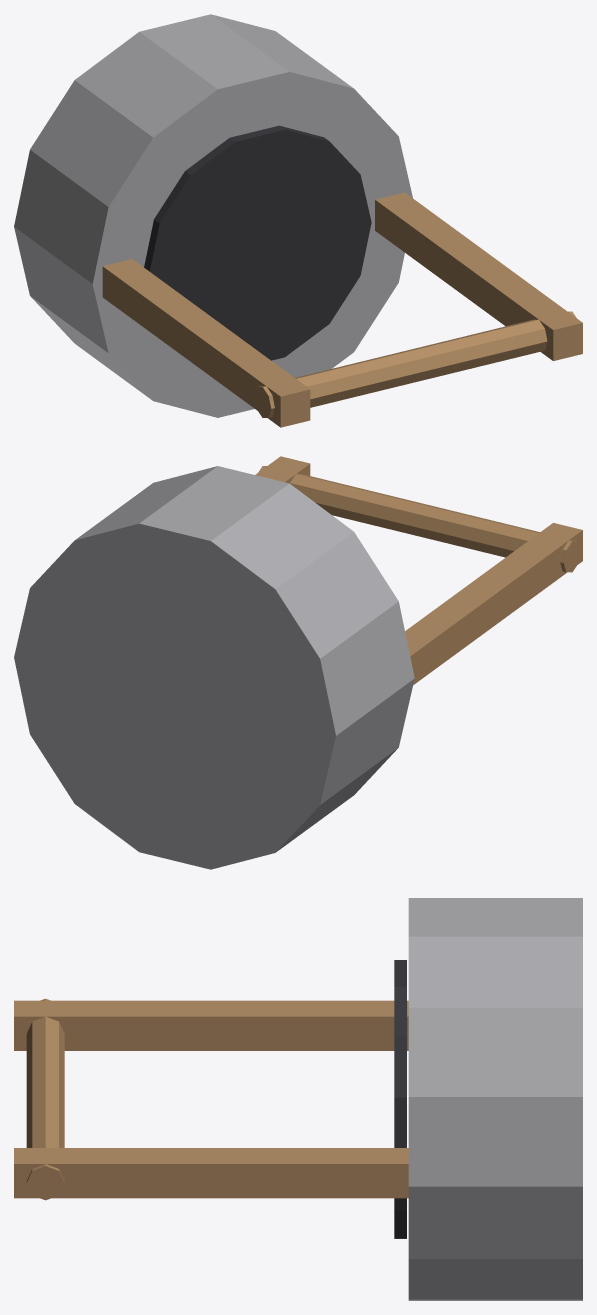
Rendered from village_well.glb.
3 renders of one model, top to bottom at view 1: azimuth 30°, elevation 25°; view 2: azimuth 150°, elevation 25°; view 3: azimuth 270°, elevation 25°, orthographic. The views are drawn at different scales.
Visible parts, largest first — view 1: stone_ring, dark_hole, post_l, post_r, beam; view 2: stone_ring, post_l, beam, post_r; view 3: stone_ring, post_r, post_l, beam, dark_hole.
Part boxes in pixels (x1=…): stone_ring: x1=14, y1=14, x2=412, y2=417; dark_hole: x1=144, y1=125, x2=371, y2=360; post_l: x1=102, y1=259, x2=310, y2=427; post_r: x1=375, y1=192, x2=582, y2=360; beam: x1=254, y1=311, x2=576, y2=417; stone_ring: x1=14, y1=466, x2=414, y2=869; post_l: x1=405, y1=523, x2=582, y2=684; beam: x1=258, y1=466, x2=580, y2=572; post_r: x1=255, y1=456, x2=310, y2=483; stone_ring: x1=408, y1=898, x2=582, y2=1300; post_r: x1=14, y1=1148, x2=408, y2=1198; post_l: x1=14, y1=1000, x2=408, y2=1050; beam: x1=26, y1=998, x2=64, y2=1200; dark_hole: x1=394, y1=960, x2=406, y2=1238.
Size of the model in its own units: 1.3 by 1.27 by 1.79.
